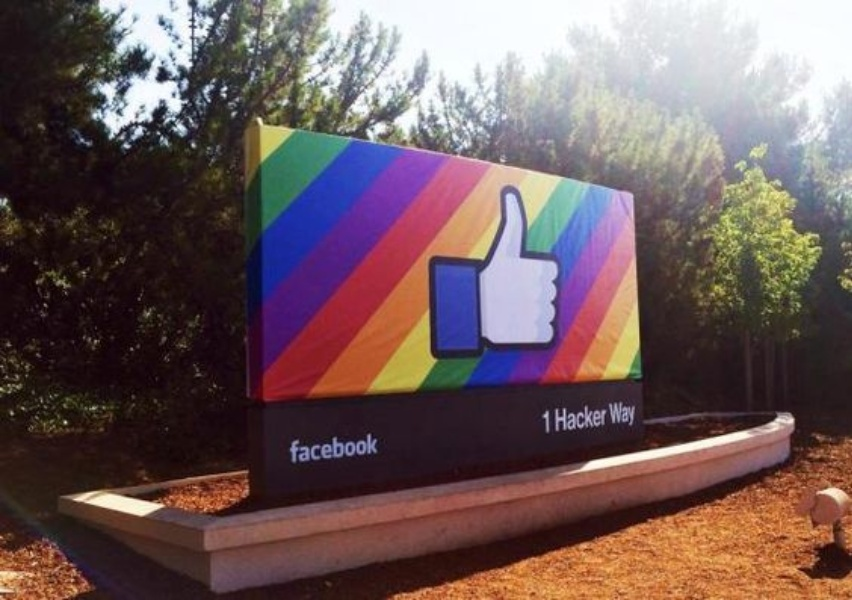text: (289, 434, 304, 464), (305, 434, 320, 464), (321, 434, 336, 464), (337, 434, 352, 464), (353, 434, 368, 464), (561, 404, 576, 433), (577, 404, 592, 433), (609, 401, 624, 427), (593, 404, 606, 433), (369, 434, 378, 464), (625, 401, 635, 427), (545, 409, 552, 436), (555, 404, 560, 433), (540, 409, 544, 436)
